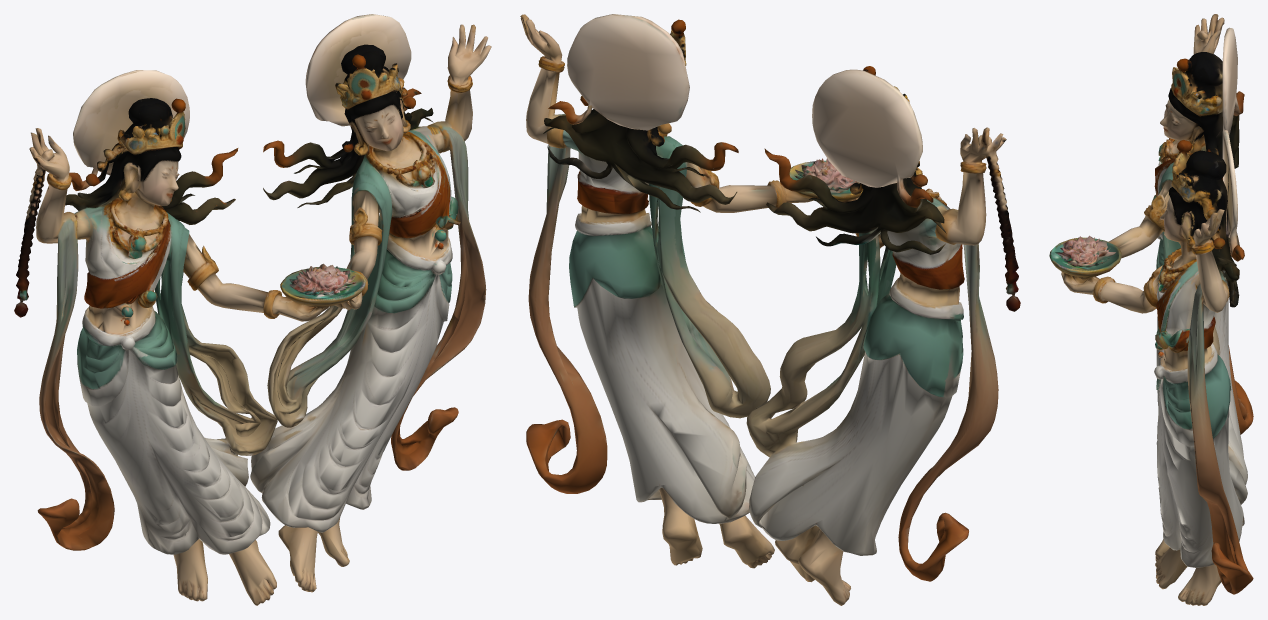
File: feitian-apsaras.glb
3 renders of one model, left to right at view 1: azimuth 30°, elevation 25°; view 2: azimuth 150°, elevation 25°; view 3: azimuth 270°, elevation 25°, orthographic. The views are drawn at different scales.
Visible parts, largest first — view 1: convert; view 2: convert; view 3: convert.
Part boxes in pixels (x1=…): convert: x1=14, y1=14, x2=491, y2=605; convert: x1=520, y1=14, x2=1020, y2=605; convert: x1=1049, y1=14, x2=1253, y2=605.
Size of the model in its own units: 0.8713 by 0.9338 by 0.3525.
Materials: 1 (1 with a texture image).
